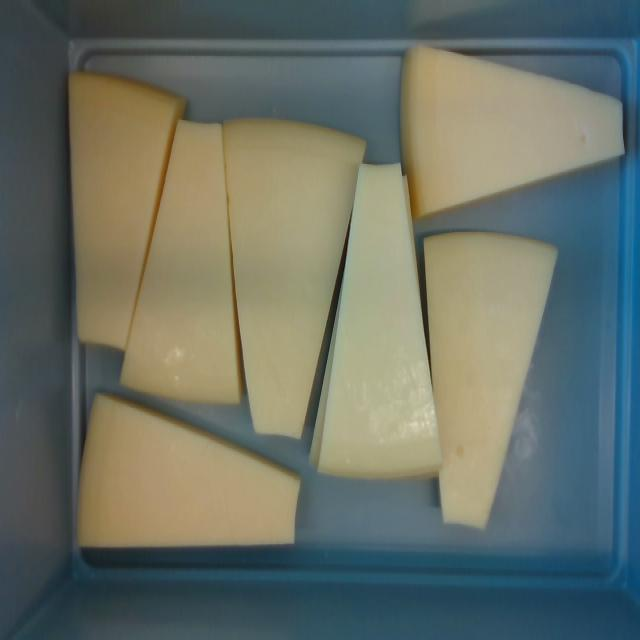cheese: (226, 116, 365, 436), (316, 165, 446, 472), (428, 234, 556, 527), (412, 49, 626, 211), (77, 391, 299, 546), (120, 122, 239, 401), (68, 75, 179, 346)
